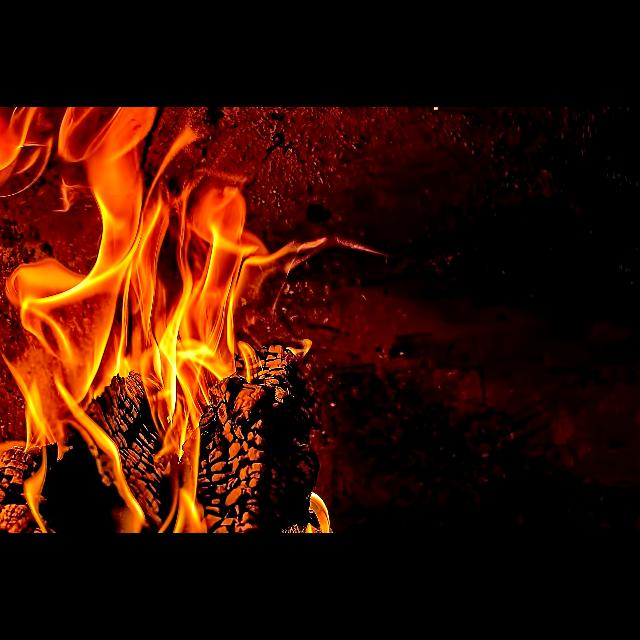fire: (0, 107, 328, 534)
